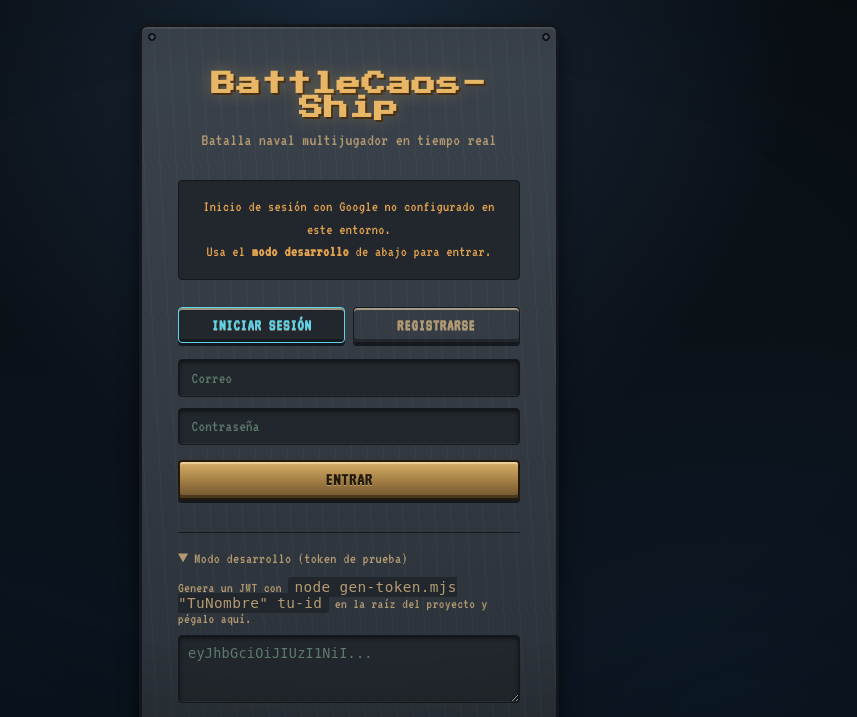
Test case: LoginPage › modo desarrollo: un token sin sub válido (no decodificable) muestra error y no navega
Type "no-es-un-jwt" into the text box with placeholder "eyJhbGciOiJIUzI1NiI...".
click(349, 669); type("no-es-un-jwt")  # box [178, 635, 520, 703]
(page scrolled)
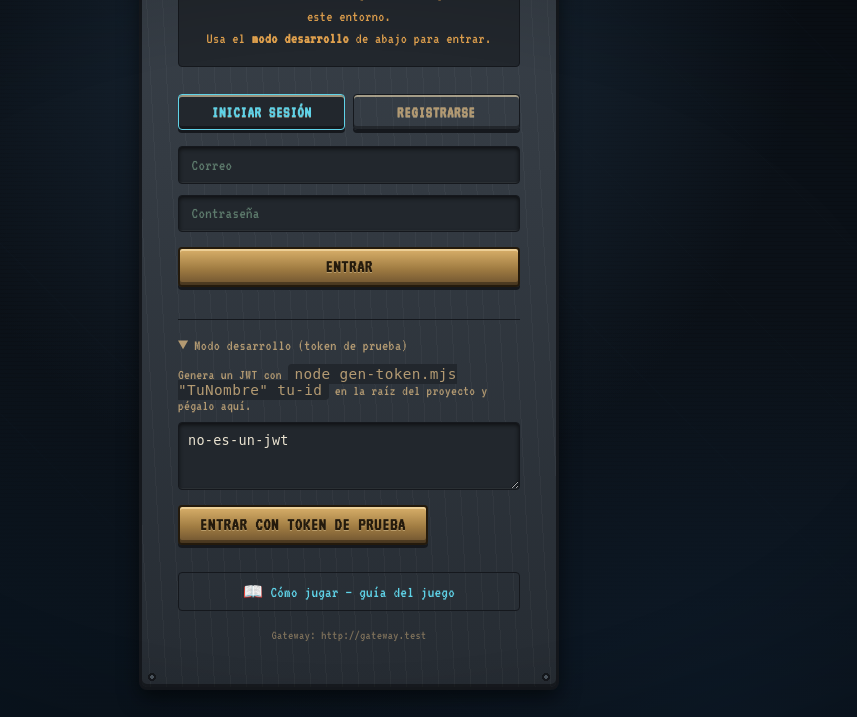
Click the button "Entrar con token de prueba".
click(303, 524)  # box [178, 504, 428, 544]
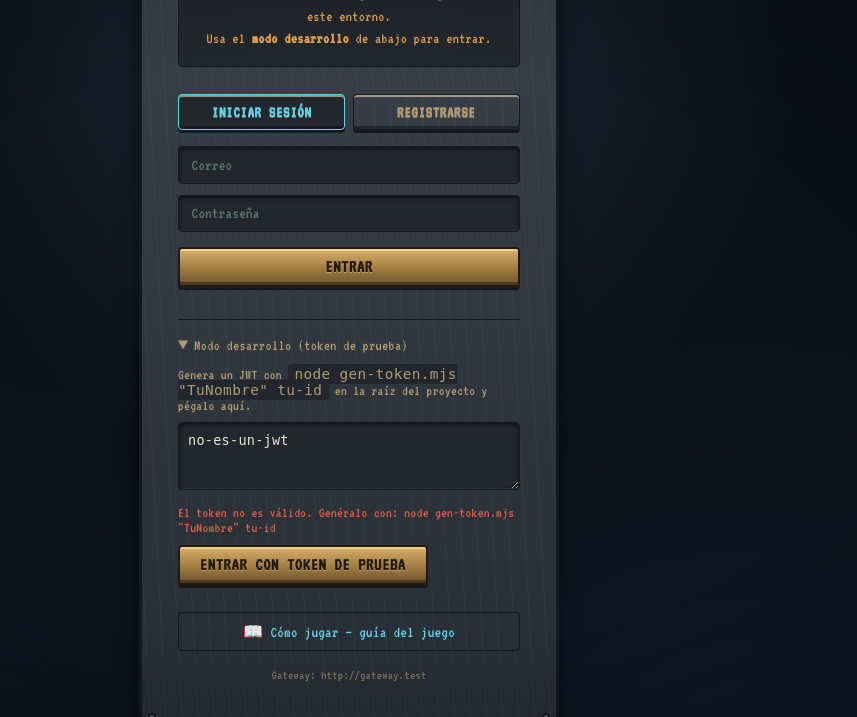
Result: the message shows "El token no es válido" at [178, 504, 514, 534]
